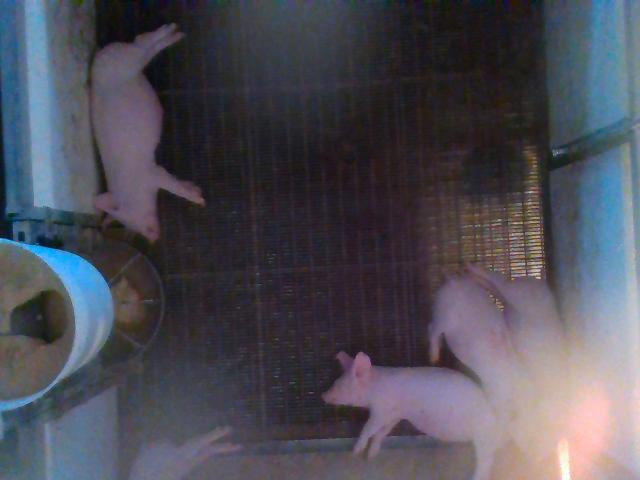pig-4: (429, 276, 554, 459)
